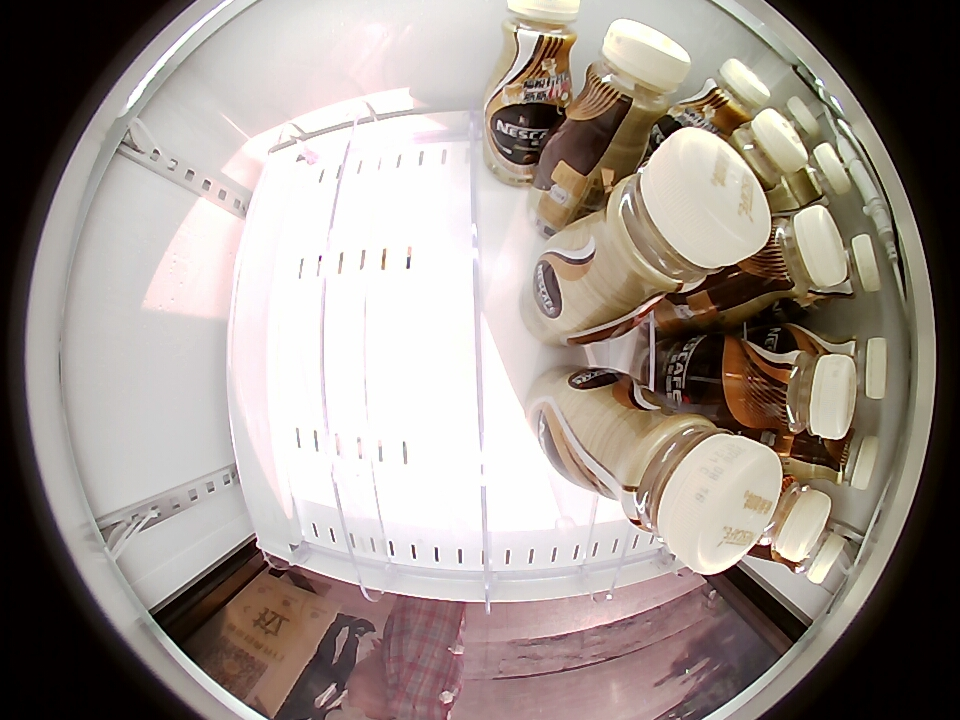kafei: (577, 383, 784, 575), (574, 126, 771, 315), (566, 18, 691, 155), (725, 329, 861, 439), (725, 204, 849, 310), (486, 0, 582, 107), (723, 108, 808, 203), (674, 57, 770, 139), (754, 468, 831, 561), (785, 427, 879, 491), (805, 330, 887, 398), (778, 142, 852, 213), (813, 234, 881, 304), (778, 530, 849, 585), (772, 96, 821, 144)
